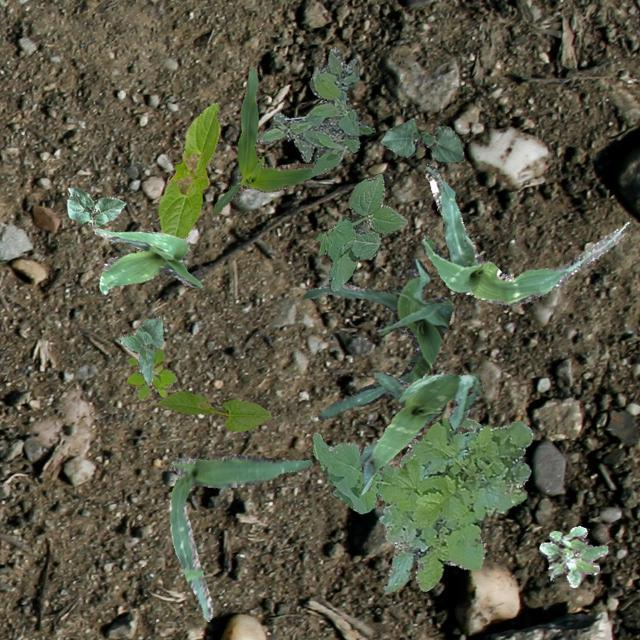crop: (420, 165, 626, 304), (302, 258, 452, 420), (168, 452, 312, 620), (212, 66, 316, 212), (359, 370, 482, 492), (156, 101, 220, 238), (91, 226, 200, 292), (156, 390, 270, 430), (380, 118, 462, 160), (118, 314, 162, 384), (66, 186, 124, 226)
weed: (378, 416, 532, 592), (312, 417, 480, 512), (258, 45, 374, 174), (314, 172, 406, 290), (538, 524, 606, 586), (126, 348, 176, 400)
